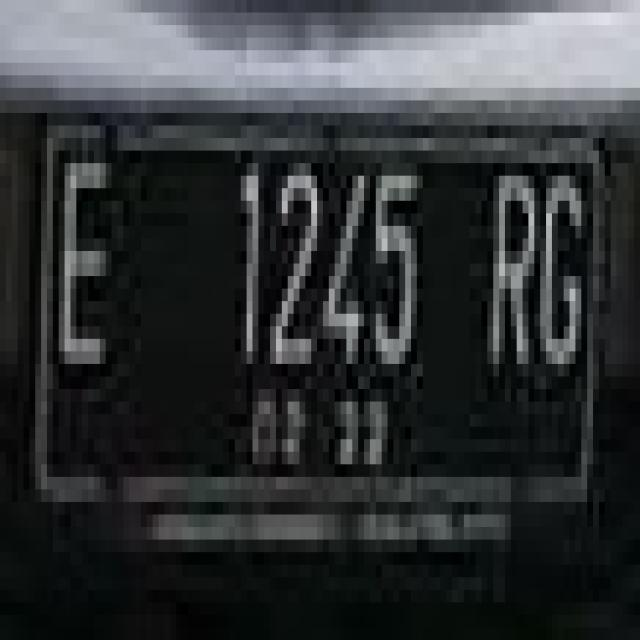plate: (32, 104, 590, 518)
